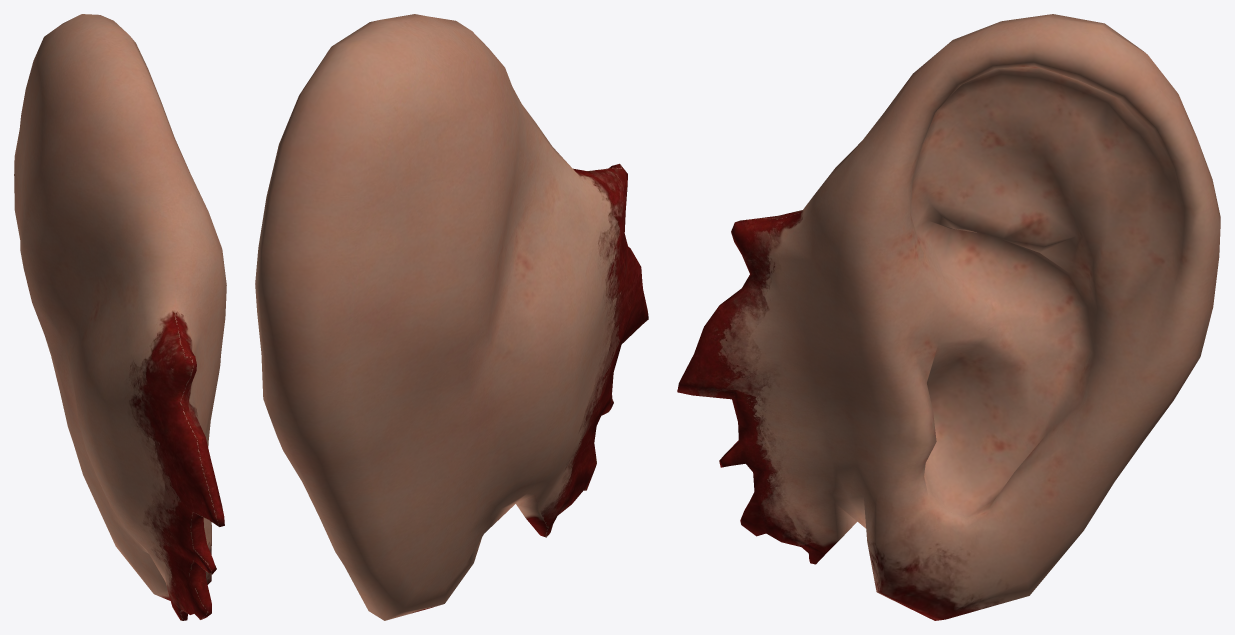
File: ear.glb
3 views of the same model, side by side, from view 1: azimuth 30°, elevation 25°; view 2: azimuth 150°, elevation 25°; view 3: azimuth 270°, elevation 25° (orthographic). The views are drawn at different scales.
Visible parts, largest first — view 1: ear; view 2: ear; view 3: ear.
Boxes of the visible parts, <box> form: ear: <box>14,14,226,620</box>; ear: <box>255,14,648,620</box>; ear: <box>677,14,1220,620</box>.
Bounding box in the file's own units: 1.1 × 4.22 × 3.51.
1 material, 1 textured.
